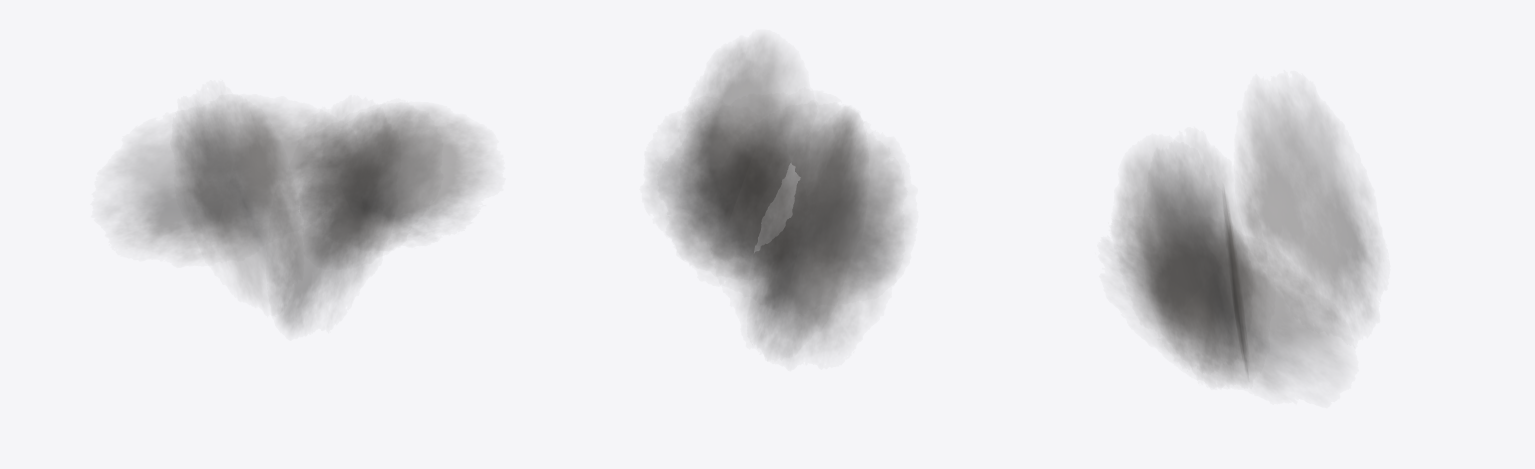
File: smoke_puff.glb
The picture shows the model from 3 angles, left to right: view 1: azimuth 30°, elevation 25°; view 2: azimuth 150°, elevation 25°; view 3: azimuth 270°, elevation 25°; orthographic projection. The views are drawn at different scales.
Bounding box in the file's own units: 4.14 × 3.67 × 3.84.
1 material, 1 textured.
